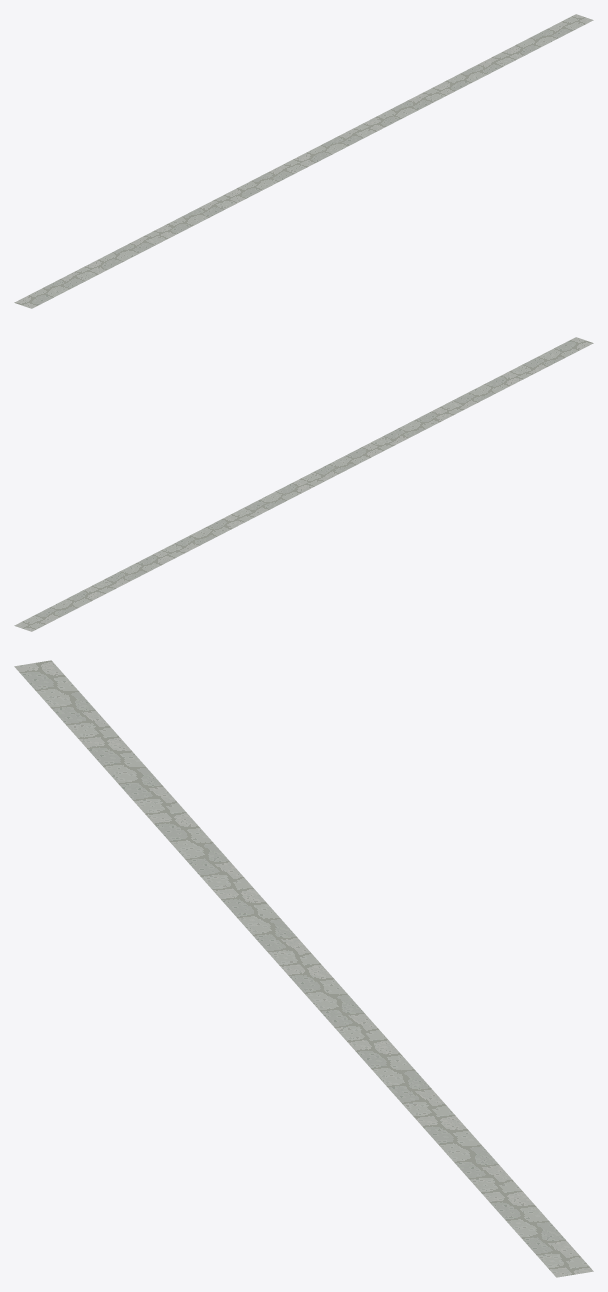
Rendered from kd_stage_1364a3_7_21.glb.
3 views of the same model, one above another, from view 1: azimuth 30°, elevation 25°; view 2: azimuth 210°, elevation 25°; view 3: azimuth 270°, elevation 25° (orthographic). The views are drawn at different scales.
Visible parts, largest first — view 1: kd_stage_1364a3_7_21; view 2: kd_stage_1364a3_7_21; view 3: kd_stage_1364a3_7_21.
Boxes of the visible parts, x1,y1,x2,y2 form: kd_stage_1364a3_7_21: [14, 14, 593, 308]; kd_stage_1364a3_7_21: [14, 337, 593, 631]; kd_stage_1364a3_7_21: [14, 660, 593, 1277].
Size of the model in its own units: 21.65 by 0 by 8.6.
Materials: 1 (1 with a texture image).
